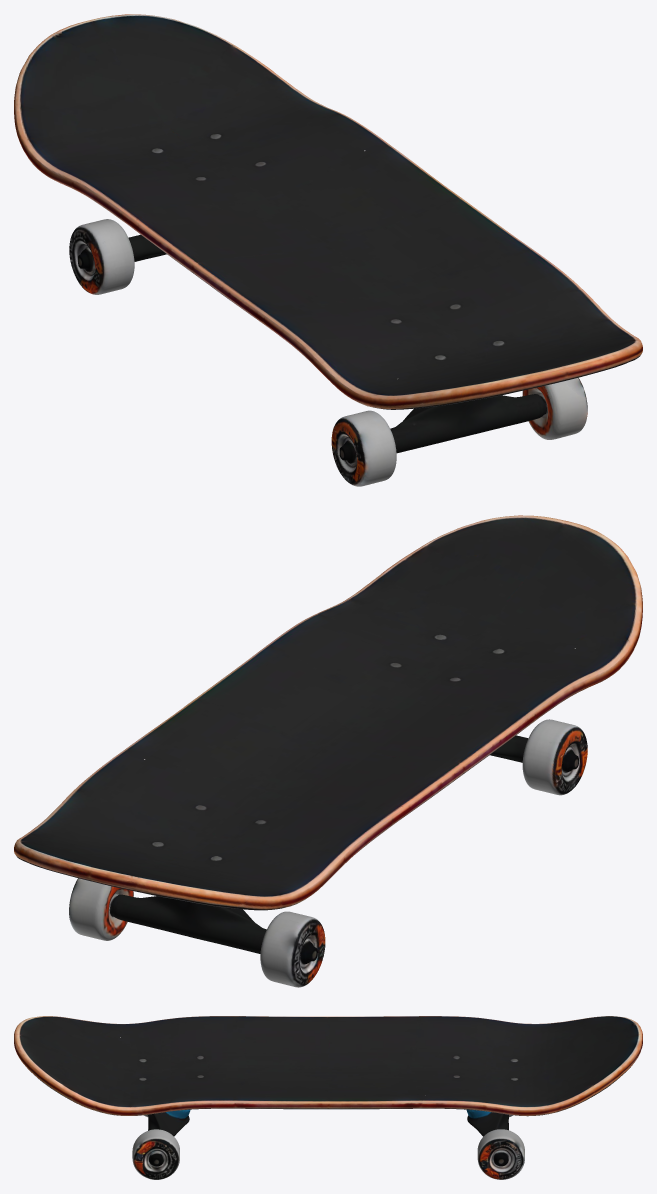
Rendered from skate.glb.
The picture shows the model from 3 angles, top to bottom: view 1: azimuth 30°, elevation 25°; view 2: azimuth 150°, elevation 25°; view 3: azimuth 270°, elevation 25°; orthographic projection. The views are drawn at different scales.
Visible parts, largest first — view 1: tripo_node_f0796e4f-ff59-4be0-b6a1-ac7124513485; view 2: tripo_node_f0796e4f-ff59-4be0-b6a1-ac7124513485; view 3: tripo_node_f0796e4f-ff59-4be0-b6a1-ac7124513485.
Part boxes in pixels (x1,y1,x2,y2): tripo_node_f0796e4f-ff59-4be0-b6a1-ac7124513485: [14, 14, 642, 486]; tripo_node_f0796e4f-ff59-4be0-b6a1-ac7124513485: [14, 515, 642, 987]; tripo_node_f0796e4f-ff59-4be0-b6a1-ac7124513485: [14, 1016, 642, 1179].
Bounding box in the file's own units: 0.3284 × 0.1942 × 1.
Materials: 1 (1 with a texture image).
